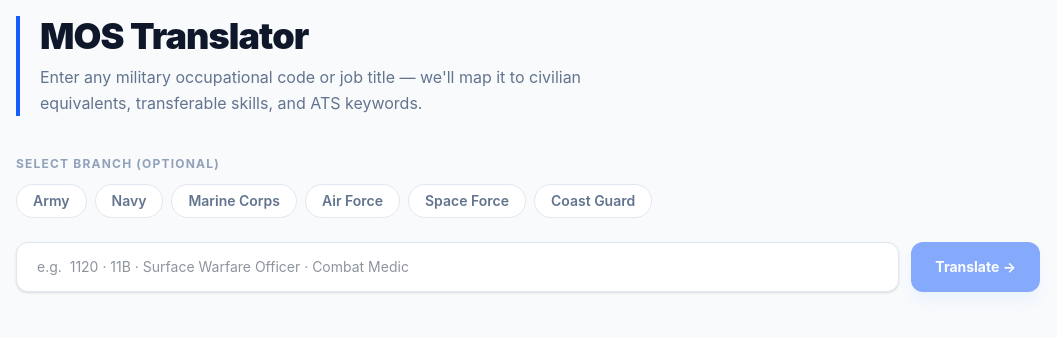
it: TranslatorPage › shows example codes when a branch is selected
The width and height of the screenshot is (1057, 338).
Click the button "Army" at (51, 201), box [16,184,86,218]
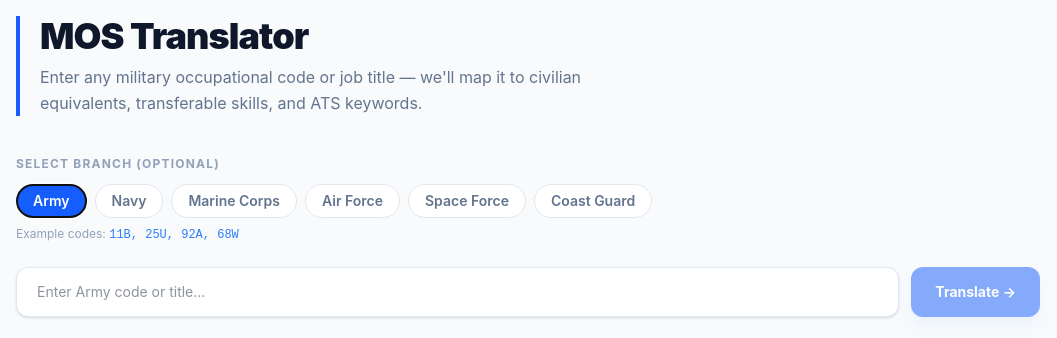
Result: the text "Example codes: 11B, 25U, 92A, 68W" is shown at [16,226,239,242]
